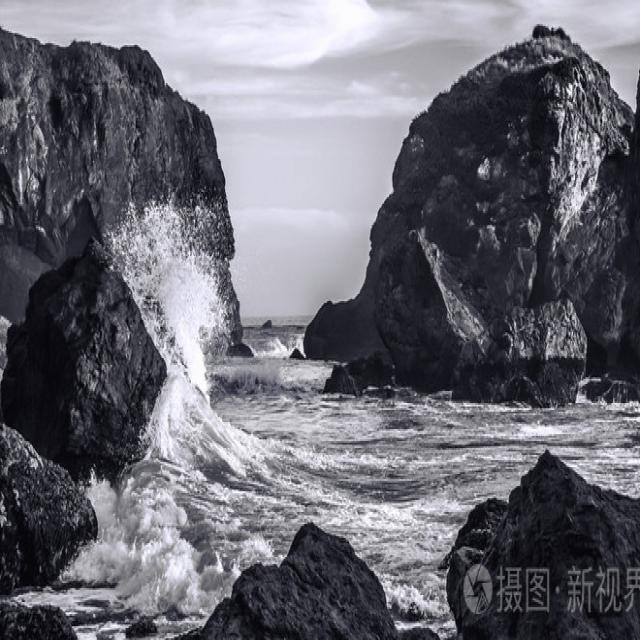reef: (298, 296, 398, 392)
